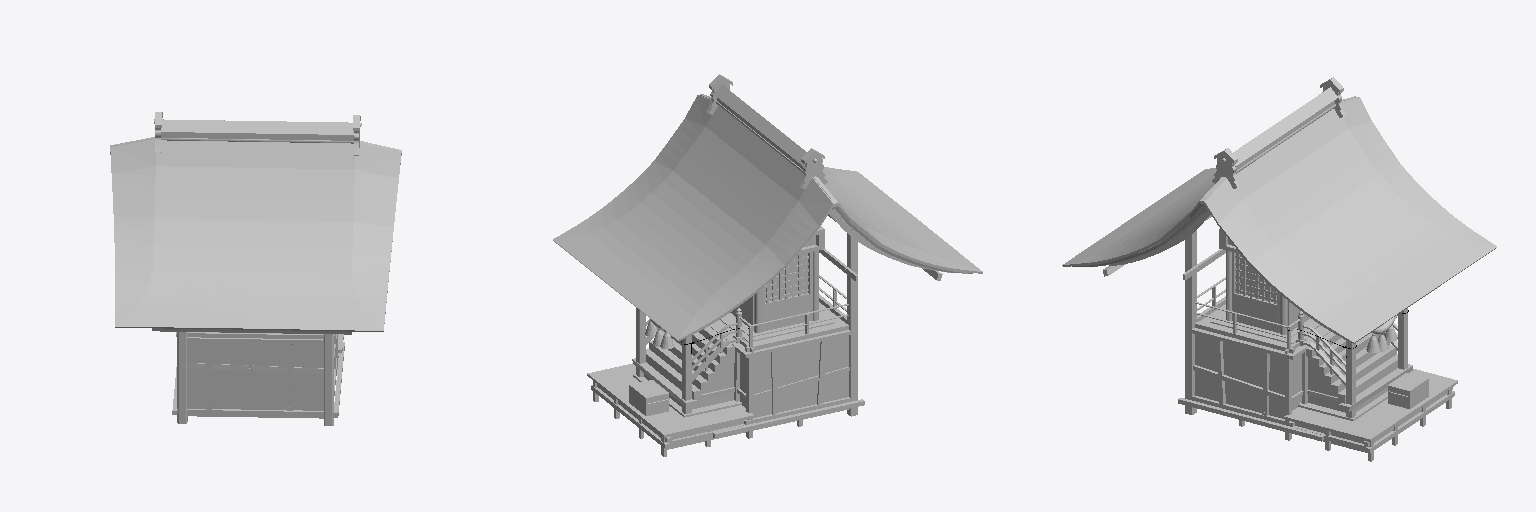
File: shrine.obj
3 renders of one model, left to right at view 1: azimuth 30°, elevation 25°; view 2: azimuth 150°, elevation 25°; view 3: azimuth 270°, elevation 25°, orthographic.
Visible parts, largest first — view 1: Shrine_02_Roof_Testing_01.006, Cube.809_Cube.1145, Shrine_02_Roof_Testing_01.001, Cube.767_Cube.1000, Cube.845_Cube.1095, Cube.825_Cube.1127, Cube.835_Cube.1085, Cube.762_Cube.991, Cube.810_Cube.1173; view 2: Shrine_02_Roof_Testing_01.006, Cube.809_Cube.1145, Plane.206_Plane.266, Cube.767_Cube.1000, Shrine_02_Roof_Testing_01.001, Cube.803_Cube.1053, Cube.762_Cube.991, Shrine_02_Roof_Testing_01.002, Plane.226_Plane.288, Cube.823_Cube.1142, Cube.778_Cube.1045, Circle.126_Circle.231 (+9 smaller); view 3: Shrine_02_Roof_Testing_01.006, Cube.809_Cube.1145, Cube.767_Cube.1000, Plane.206_Plane.266, Shrine_02_Roof_Testing_01.001, Cube.803_Cube.1053, Cube.762_Cube.991, Shrine_02_Roof_Testing_01.002, Cube.778_Cube.1045, Cube.819_Cube.1138, Plane.226_Plane.288, Cube.788_Cube.1050 (+10 smaller).
Part boxes in pixels (x1,y1,x2,y2): Shrine_02_Roof_Testing_01.006: (110,137,401,331); Cube.809_Cube.1145: (187,342,323,418); Shrine_02_Roof_Testing_01.001: (161,119,353,143); Cube.767_Cube.1000: (177,332,333,425); Cube.845_Cube.1095: (187,332,323,338); Cube.825_Cube.1127: (187,409,323,415); Cube.835_Cube.1085: (187,363,323,373); Cube.762_Cube.991: (176,332,335,343); Cube.810_Cube.1173: (152,328,351,334); Shrine_02_Roof_Testing_01.006: (553,94,982,340); Cube.809_Cube.1145: (740,335,848,430); Plane.206_Plane.266: (587,363,753,436); Cube.767_Cube.1000: (636,233,857,416); Shrine_02_Roof_Testing_01.001: (714,85,806,173); Cube.803_Cube.1053: (762,252,812,331); Cube.762_Cube.991: (710,302,850,357); Shrine_02_Roof_Testing_01.002: (706,74,827,188); Plane.226_Plane.288: (644,354,734,408); Cube.823_Cube.1142: (713,399,864,438); Cube.778_Cube.1045: (629,380,668,415); Circle.126_Circle.231: (754,251,818,332); Shrine_02_Roof_Testing_01.006: (1062,96,1496,343); Cube.809_Cube.1145: (1195,334,1301,418); Cube.767_Cube.1000: (1185,230,1407,417); Plane.206_Plane.266: (1284,369,1457,441); Shrine_02_Roof_Testing_01.001: (1233,87,1337,173); Cube.803_Cube.1053: (1232,252,1279,332); Cube.762_Cube.991: (1192,304,1330,359); Shrine_02_Roof_Testing_01.002: (1212,77,1345,188); Cube.778_Cube.1045: (1388,373,1428,408); Cube.819_Cube.1138: (1178,398,1323,441); Plane.226_Plane.288: (1308,357,1387,412); Cube.788_Cube.1050: (1302,323,1397,385).
Bounding box in the file's own units: 9.97 × 7.62 × 10.54.